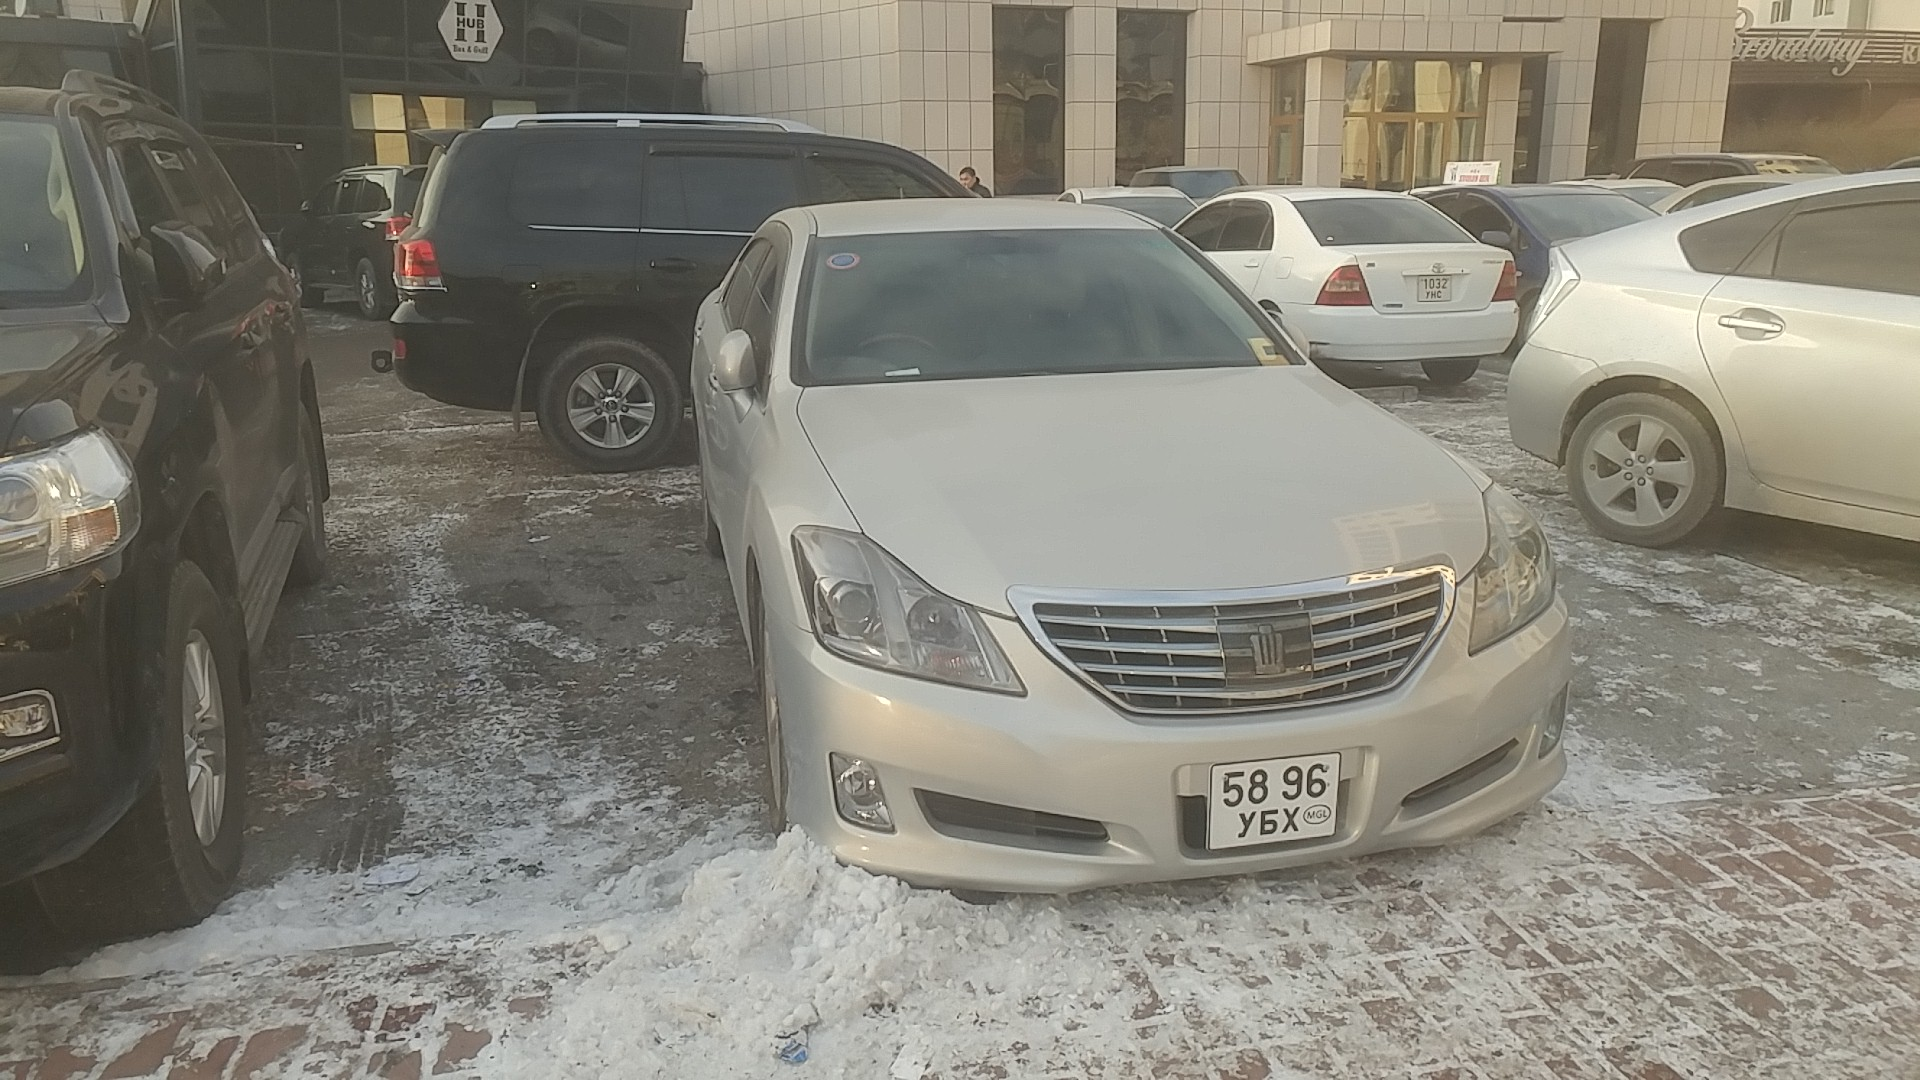5: (1223, 770, 1245, 807)
6: (1305, 761, 1330, 799)
8: (1248, 769, 1268, 804)
9: (1280, 765, 1303, 801)
b: (1259, 807, 1280, 837)
h: (1282, 806, 1301, 834)
plate: (1202, 747, 1341, 852)
u: (1237, 810, 1256, 838)
